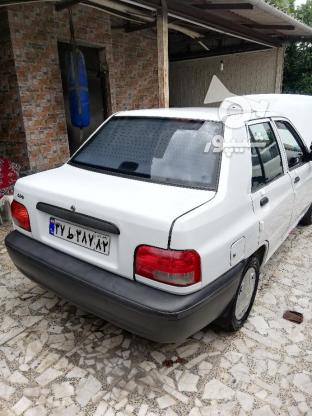car: (49, 214, 111, 254)
